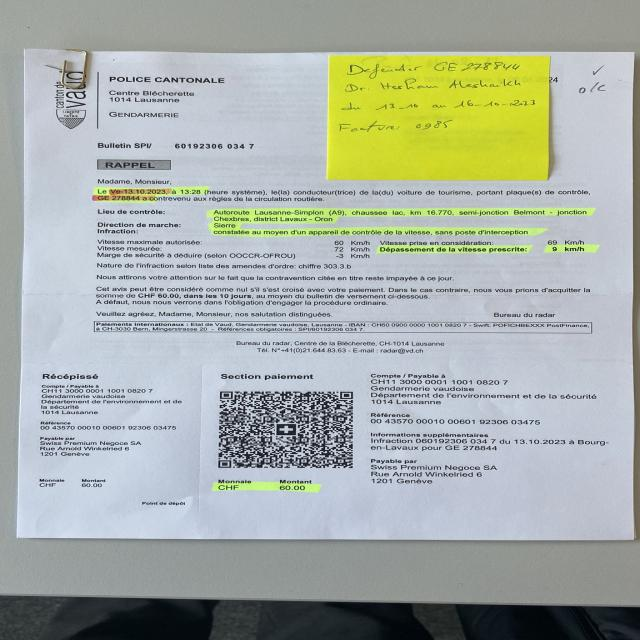paper-document-: (15, 48, 633, 540)
